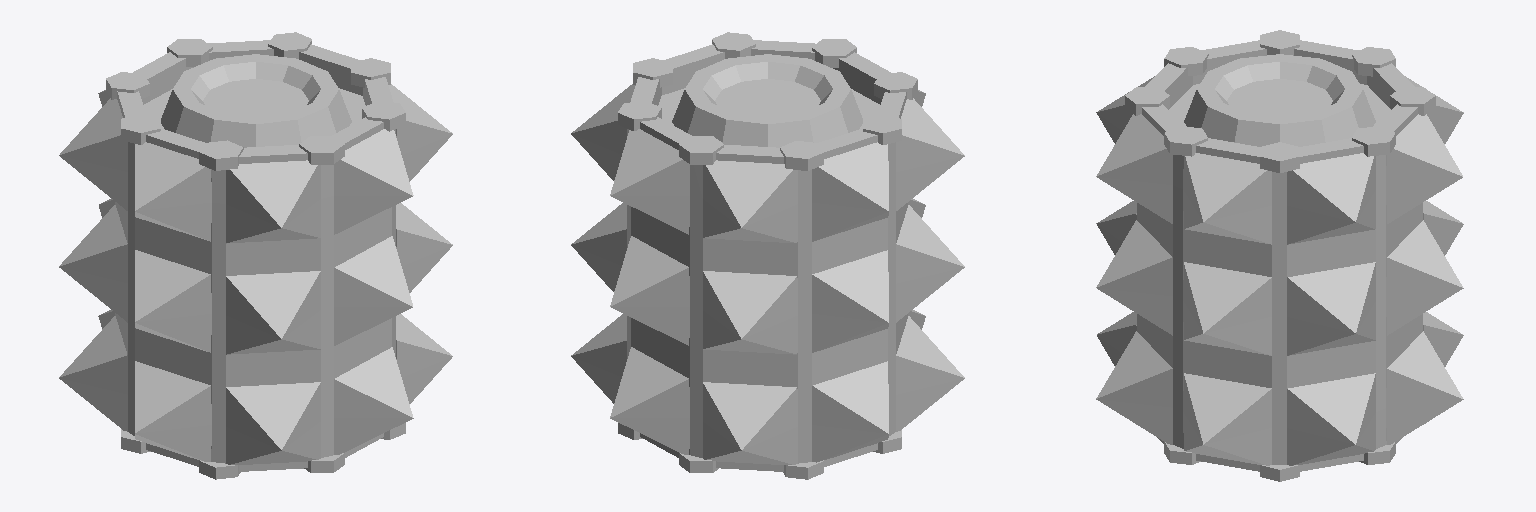
Rendered from fant_drill_small.obj.
3 views of the same model, side by side, from view 1: azimuth 30°, elevation 25°; view 2: azimuth 150°, elevation 25°; view 3: azimuth 270°, elevation 25° (orthographic).
Parts seen in each view (by area): view 1: fant_drill_small_fant_drill.001_Mesh.003; view 2: fant_drill_small_fant_drill.001_Mesh.003; view 3: fant_drill_small_fant_drill.001_Mesh.003.
Part boxes in pixels (x1,y1,x2,y2): fant_drill_small_fant_drill.001_Mesh.003: (59,32,452,479); fant_drill_small_fant_drill.001_Mesh.003: (571,32,964,479); fant_drill_small_fant_drill.001_Mesh.003: (1096,30,1463,481).
Size of the model in its own units: 1 by 1 by 1.